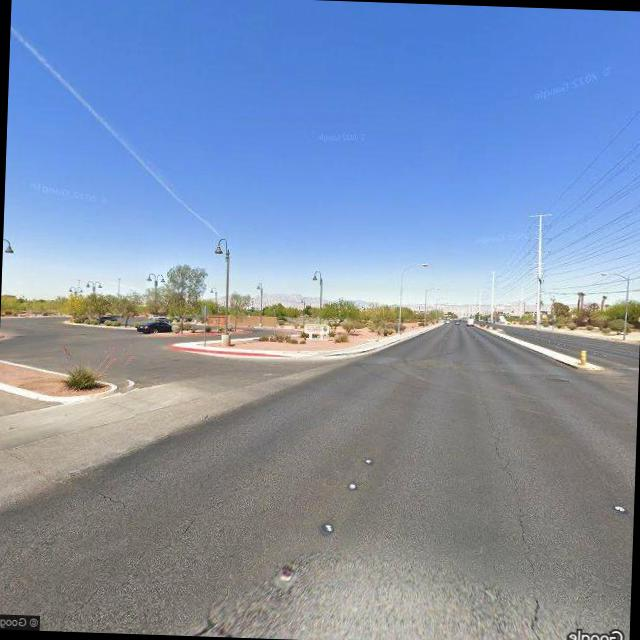pothole: (481, 404, 538, 558)
